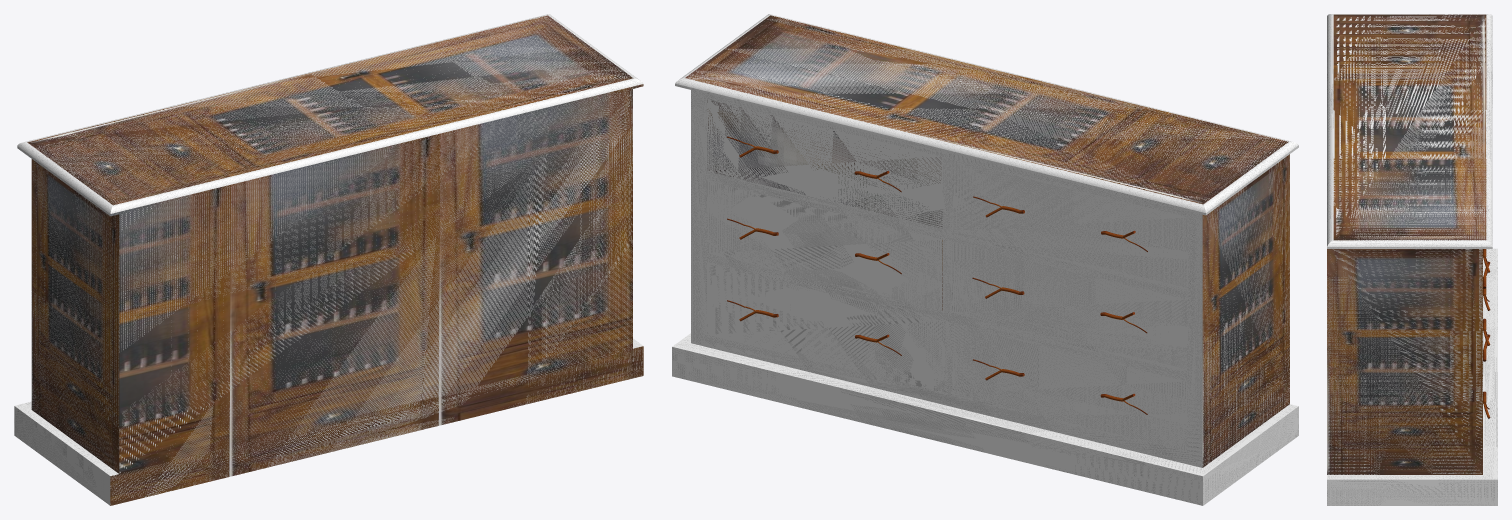
3 renders of one model, left to right at view 1: azimuth 30°, elevation 25°; view 2: azimuth 150°, elevation 25°; view 3: azimuth 270°, elevation 25°, orthographic. The views are drawn at different scales.
Parts seen in each view (by area): view 1: mesh49_mesh49-geometry; view 2: mesh49_mesh49-geometry; view 3: mesh49_mesh49-geometry.
Boxes of the visible parts, left/top/right/bottom form: mesh49_mesh49-geometry: left=14, top=14, right=643, bottom=505; mesh49_mesh49-geometry: left=672, top=14, right=1298, bottom=505; mesh49_mesh49-geometry: left=1327, top=14, right=1497, bottom=505.
Size of the model in its own units: 0.8513 by 0.4522 by 0.266.
